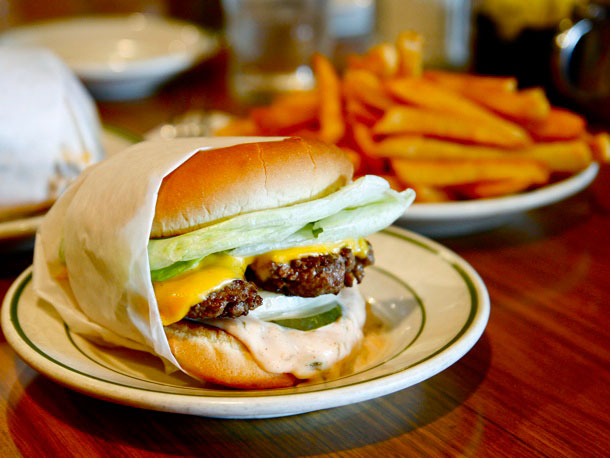hamburger: (43, 111, 404, 397)
